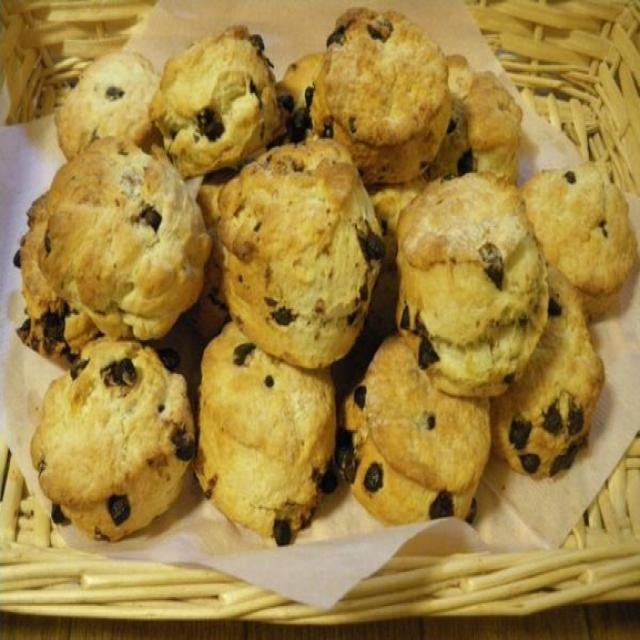面包点心: (3, 4, 636, 578)
